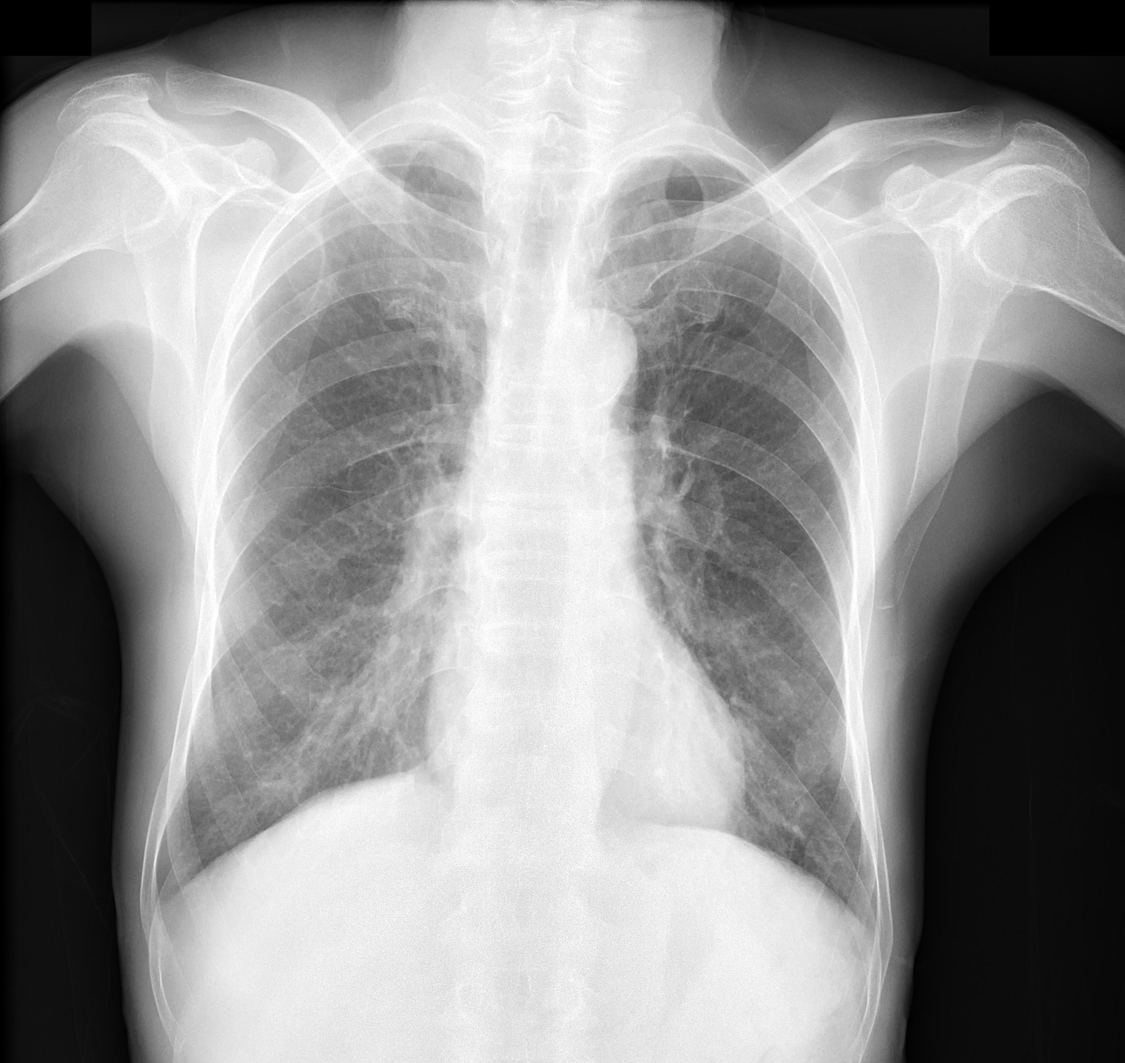Aortic enlargement: (543, 307, 639, 403)
Pleural thickening: (357, 121, 485, 156)
